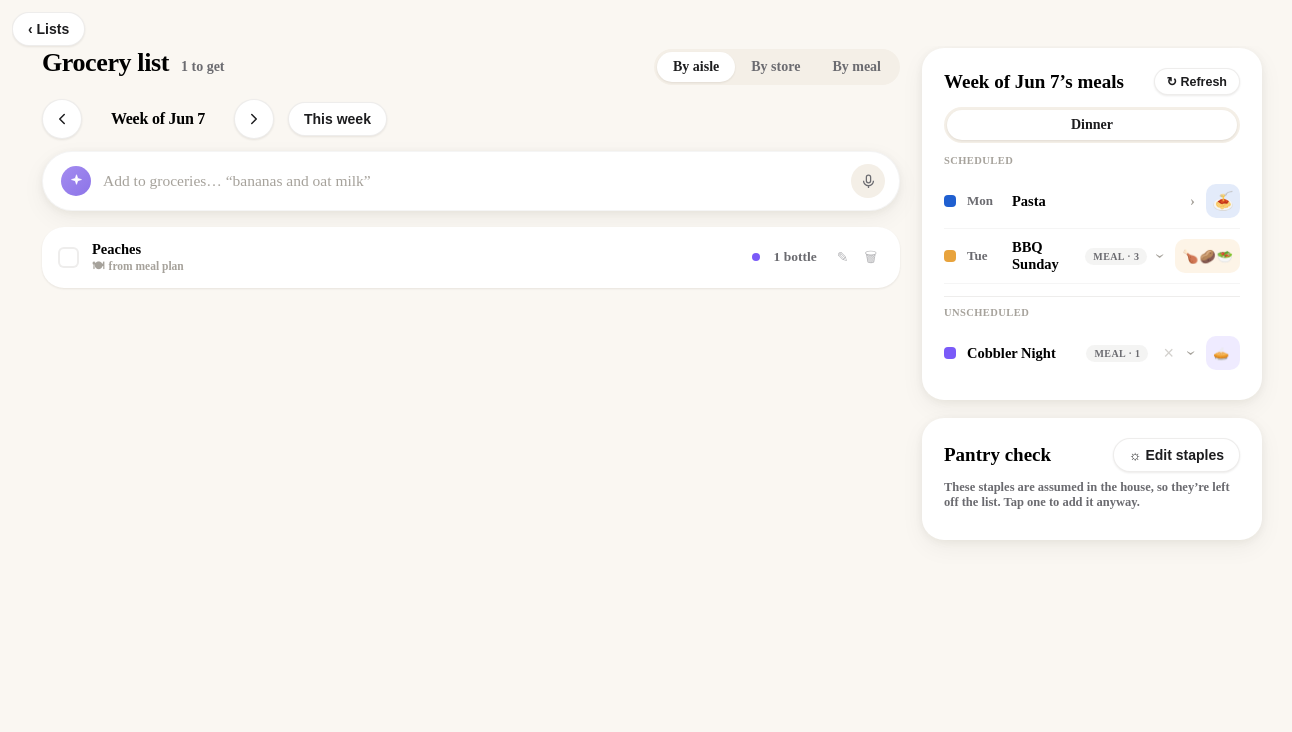
Scenario: GroceryBoard By-meal grouping with plates › groups an unscheduled plate’s items under that plate too
The width and height of the screenshot is (1292, 732).
Expected: the text "Peaches" is shown, x1=92 y1=241 x2=141 y2=257
Click the button "By meal" at coordinates (857, 67), box x1=816 y1=52 x2=897 y2=82
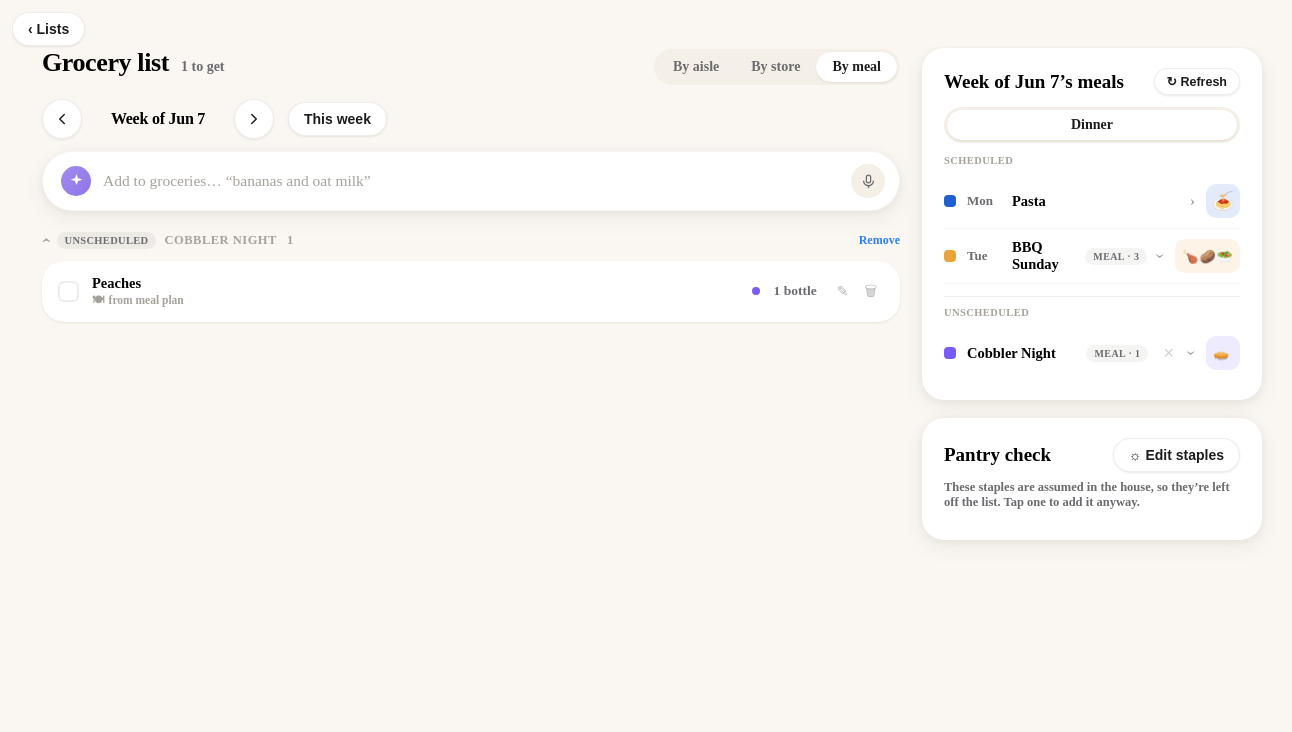
Expected: the text "Peaches" is shown, x1=92 y1=275 x2=141 y2=291
Now the text "Cobbler Night" is shown, box x1=164 y1=232 x2=277 y2=246
